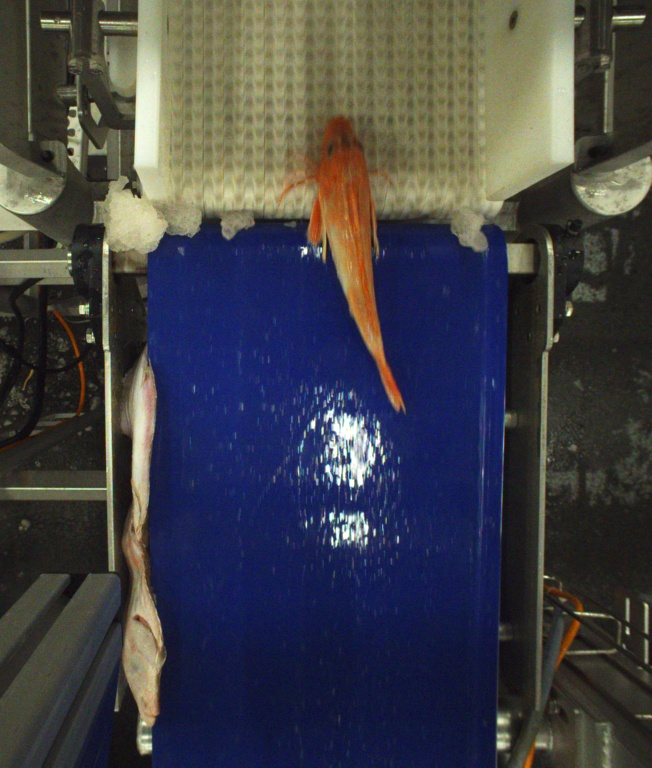GUU: (279, 114, 406, 416)
